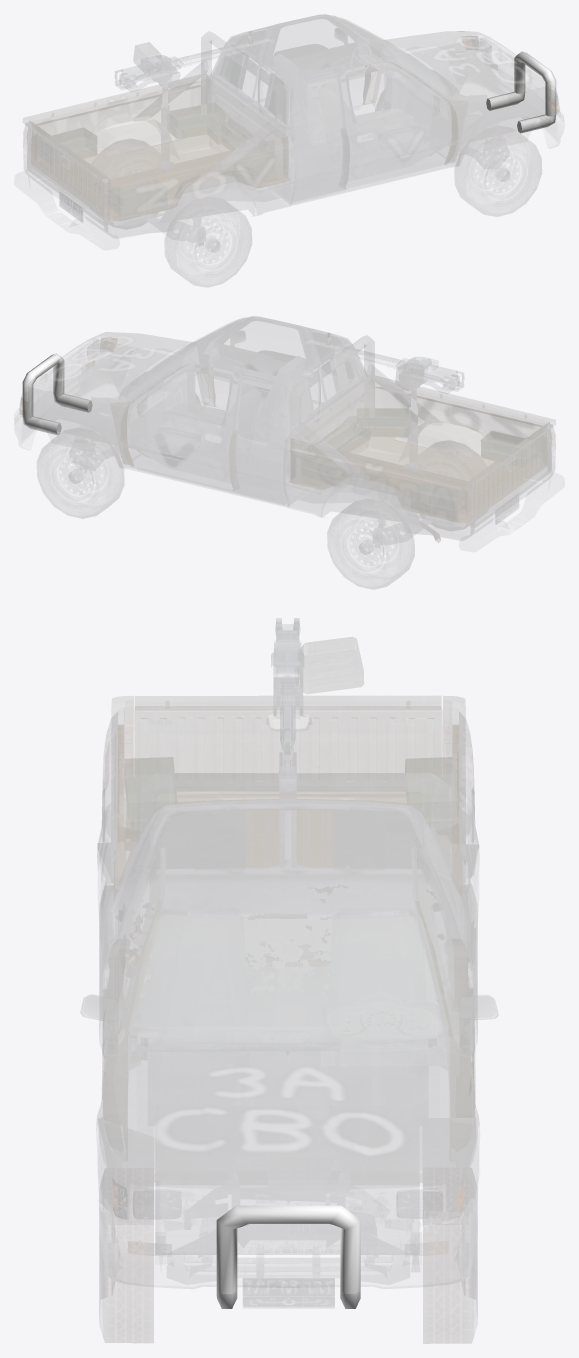
Rendered from wreck_dshk_source.glb.
3 views of the same model, one above another, from view 1: azimuth 30°, elevation 25°; view 2: azimuth 150°, elevation 25°; view 3: azimuth 270°, elevation 25° (orthographic). The views are drawn at different scales.
Visible parts, largest first — view 1: bracket; view 2: bracket; view 3: bracket.
Boxes of the visible parts, x1,y1,x2,y2 form: bracket: (23,14,560,286); bracket: (15,316,555,588); bracket: (82,618,494,1343).
Bounding box in the file's own units: 5.3 × 2.11 × 1.99.
11 materials, 10 textured.
